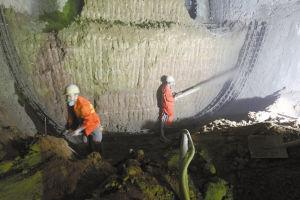helmet: (63, 84, 81, 106)
